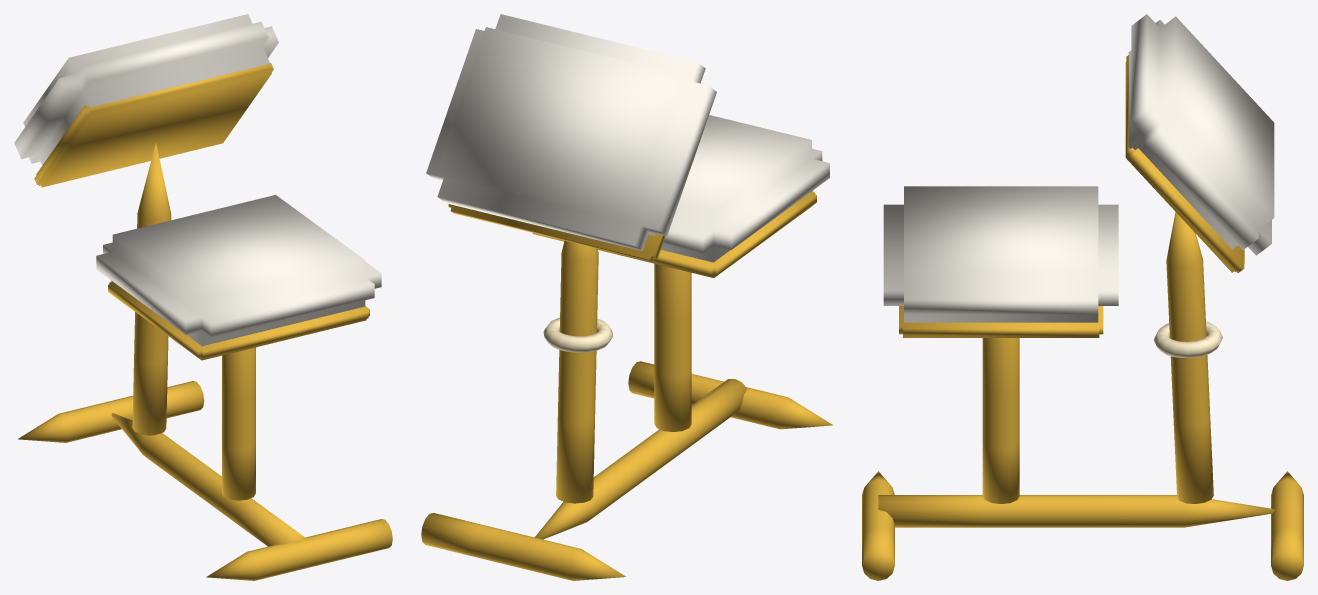
The model's file is GoldenBench.glb.
The picture shows the model from 3 angles, left to right: view 1: azimuth 30°, elevation 25°; view 2: azimuth 150°, elevation 25°; view 3: azimuth 270°, elevation 25°; orthographic projection. The views are drawn at different scales.
Visible parts, largest first — view 1: GoldenBench; view 2: GoldenBench; view 3: GoldenBench.
Boxes of the visible parts, x1=… form: GoldenBench: x1=14, y1=14, x2=392, y2=580; GoldenBench: x1=421, y1=14, x2=832, y2=580; GoldenBench: x1=862, y1=14, x2=1303, y2=580.
Size of the model in its own units: 1.3 by 2.55 by 2.16.
1 material, 1 textured.
